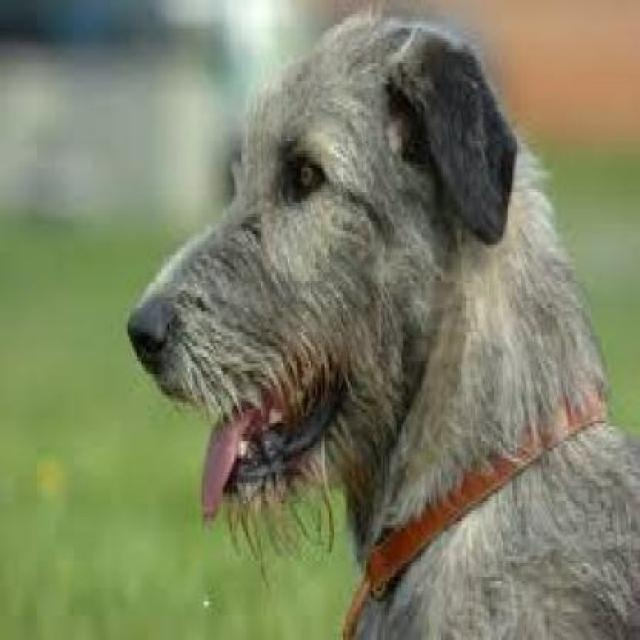animals: (75, 6, 640, 640)
